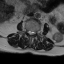CCS_stenosis: (30, 28, 32, 37)
LFS_normal: (34, 29, 36, 35)
LLS_normal: (32, 28, 34, 36)
RFS_normal: (26, 27, 28, 34)
RLS_normal: (28, 28, 30, 35)
